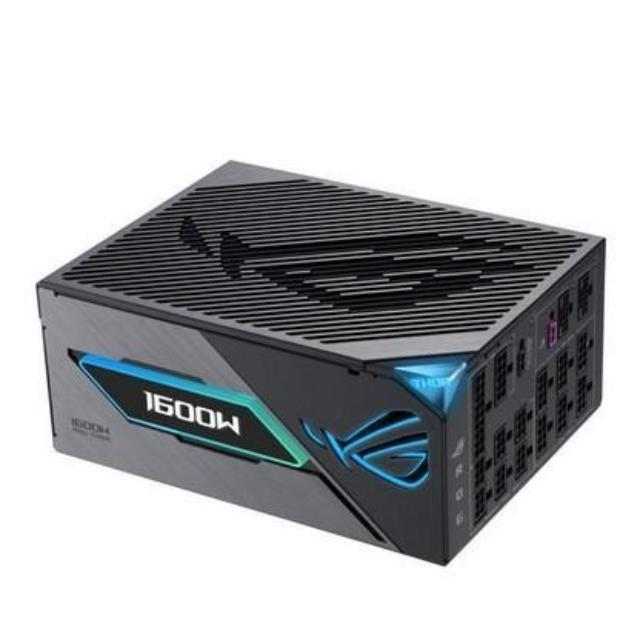PSU: (31, 152, 616, 580)
